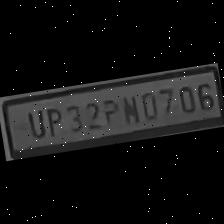0: (136, 88, 161, 122), (173, 82, 197, 115)
2: (79, 97, 104, 131)
3: (61, 100, 84, 134)
6: (192, 79, 215, 112)
7: (154, 84, 178, 118)
N: (116, 91, 141, 126)
P: (40, 104, 65, 138)
U: (22, 106, 48, 140)
